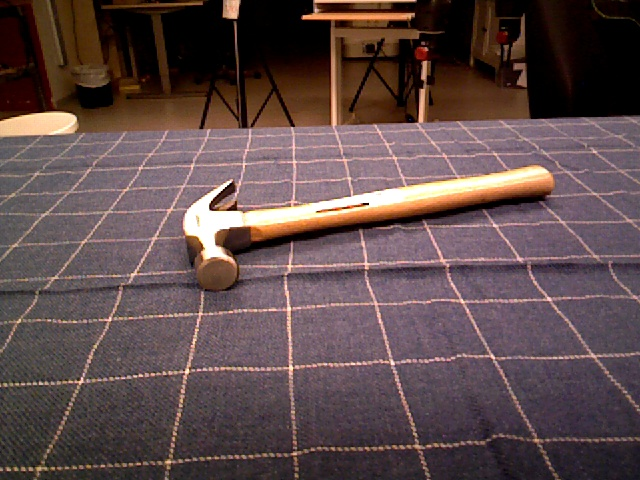hammer1: (181, 163, 557, 290)
